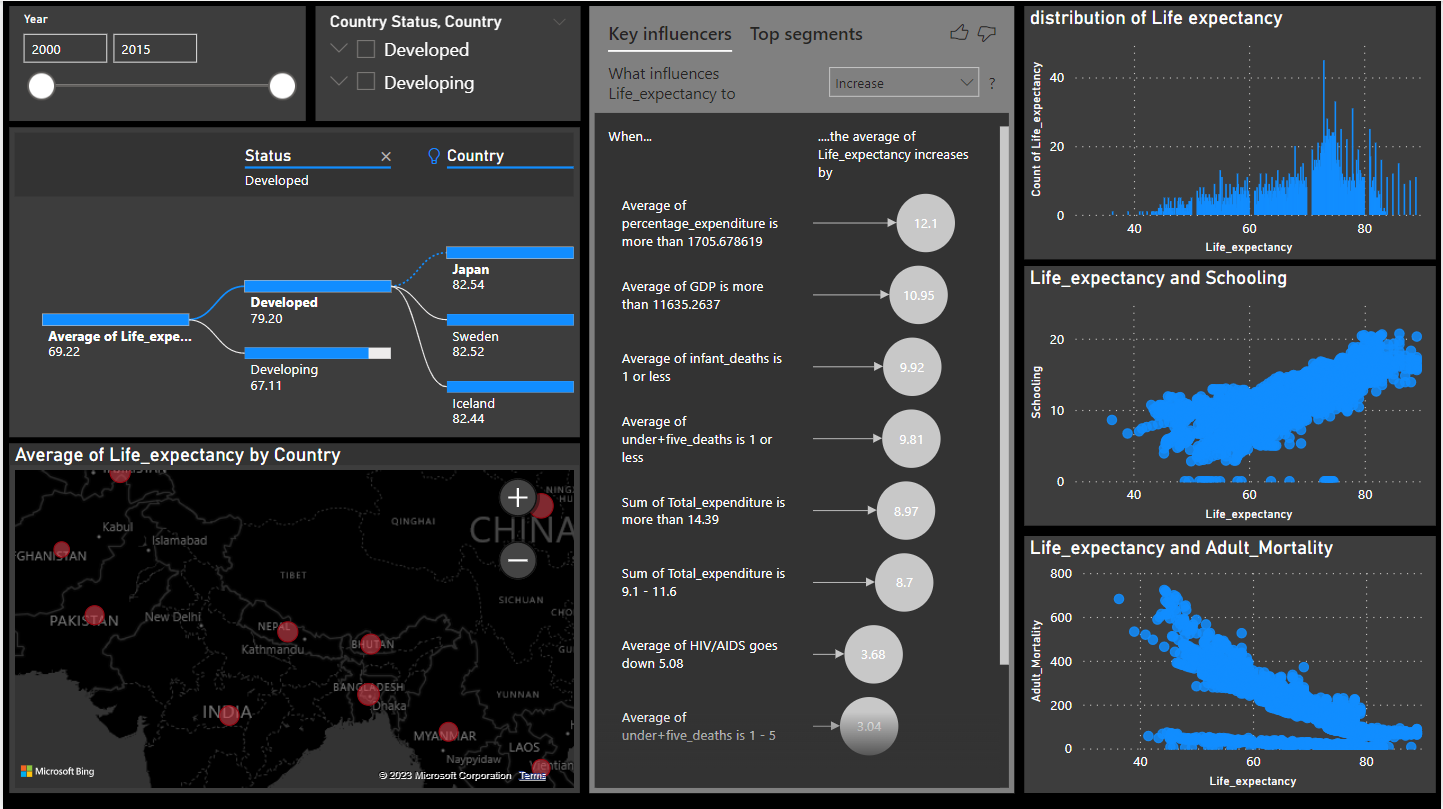

What the dashboard file says about the page in this screenshot:
{"tool":"powerbi","page":{"name":"Page 1","canvas":[1280,720],"ordinal":0},"visuals":[{"type":"decompositionTreeVisual","fields":{"Analyze":["Life_Expectancy_Data2.Life_expectancy "],"ExplainBy":["Life_Expectancy_Data2.Status","Life_Expectancy_Data2.Country"]},"box":[6,112.2,507.7,276.2],"z":0},{"type":"map","fields":{"Category":["Life_Expectancy_Data2.Country"],"Size":["Life_Expectancy_Data2.Life_expectancy "]},"box":[6,394.4,507.7,311.2],"z":1000},{"type":"keyDriversVisual","fields":{"Target":["Life_Expectancy_Data2.Life_expectancy "],"ExplainBy":["Life_Expectancy_Data2.Total_expenditure","Life_Expectancy_Data2.GDP","Life_Expectancy_Data2.Income-composition-of resources","Life_Expectancy_Data2.percentage_expenditure","Life_Expectancy_Data2. HIV/AIDS","Life_Expectancy_Data2.under+five_deaths ","Life_Expectancy_Data2.infant_deaths"]},"box":[522.2,4.8,378.7,700.7],"z":2000},{"type":"scatterChart","fields":{"X":["Life_Expectancy_Data2.Life_expectancy "],"Y":["Life_Expectancy_Data2.Schooling"]},"box":[909.3,236.4,366.6,231.6],"z":3000},{"type":"scatterChart","fields":{"X":["Life_Expectancy_Data2.Life_expectancy "],"Y":["Life_Expectancy_Data2.Adult_Mortality"]},"box":[909.3,476.4,366.6,229.1],"z":4000},{"type":"clusteredColumnChart","title":"distribution of Life expectancy ","fields":{"Category":["Life_Expectancy_Data2.Life_expectancy "],"Y":["Life_Expectancy_Data2.Life_expectancy "]},"box":[909.3,4.8,366.6,225.5],"z":5000},{"type":"slicer","fields":{"Values":["Life_Expectancy_Data2.Year"]},"box":[6,4.8,264.1,102.5],"z":7000},{"type":"slicer","fields":{"Values":["Life_Expectancy_Data2.Status","Life_Expectancy_Data2.Country"]},"box":[278.6,4.8,236.4,102.5],"z":8000}]}

Visuals, with their boxes in screenshot pixels (x1, y1, x2, y2), scaled from the page's 1280x720 canvas onto the 1443x809 screenshot:
decompositionTreeVisual - Life_Expectancy_Data2.Life_expectancy  x Life_Expectancy_Data2.Status: box=[7, 126, 579, 436]
map - Life_Expectancy_Data2.Country x Life_Expectancy_Data2.Life_expectancy : box=[7, 443, 579, 793]
keyDriversVisual - Life_Expectancy_Data2.Life_expectancy  x Life_Expectancy_Data2.Total_expenditure: box=[589, 5, 1016, 793]
scatterChart - Life_Expectancy_Data2.Life_expectancy  x Life_Expectancy_Data2.Schooling: box=[1025, 266, 1438, 526]
scatterChart - Life_Expectancy_Data2.Life_expectancy  x Life_Expectancy_Data2.Adult_Mortality: box=[1025, 535, 1438, 793]
"distribution of Life expectancy " clusteredColumnChart: box=[1025, 5, 1438, 259]
slicer - Life_Expectancy_Data2.Year: box=[7, 5, 304, 121]
slicer - Life_Expectancy_Data2.Status x Life_Expectancy_Data2.Country: box=[314, 5, 581, 121]
